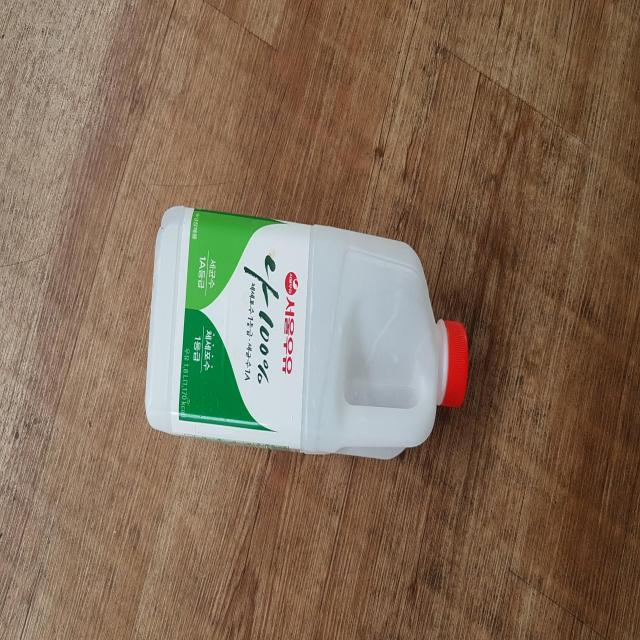plastic: (145, 205, 469, 458)
